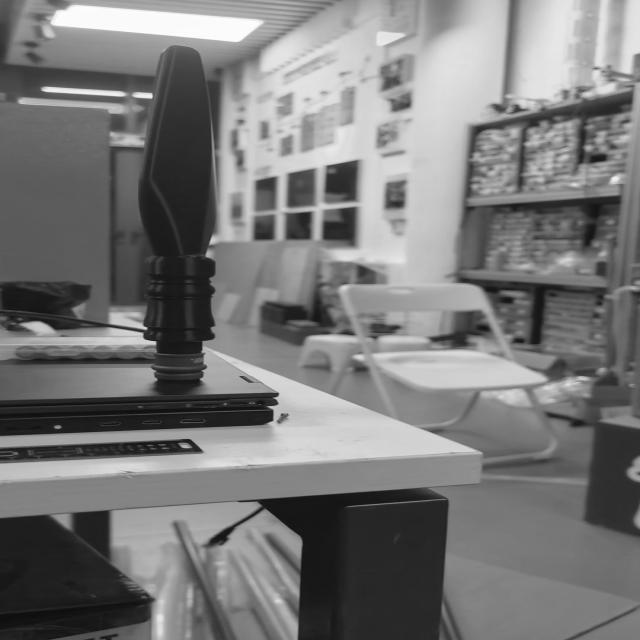base: (138, 349, 219, 391)
